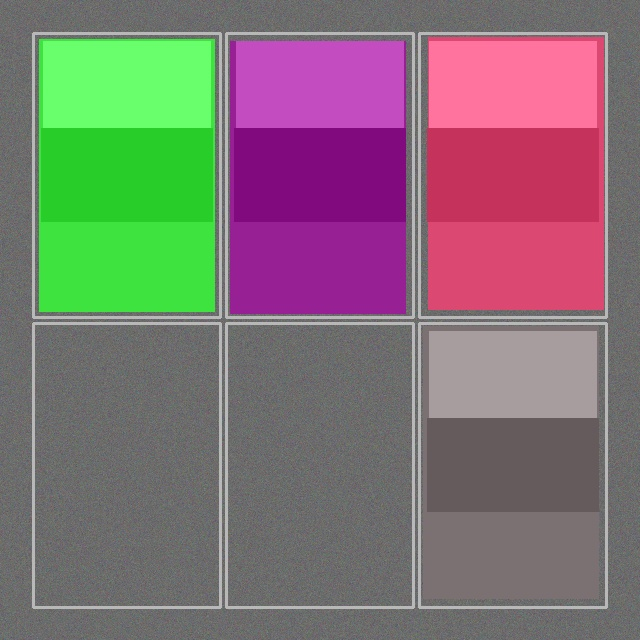space-empty: (35, 325, 218, 605), (228, 325, 411, 605)
space-occupied: (35, 35, 218, 315), (228, 35, 411, 315), (421, 35, 604, 315), (421, 325, 604, 605)
